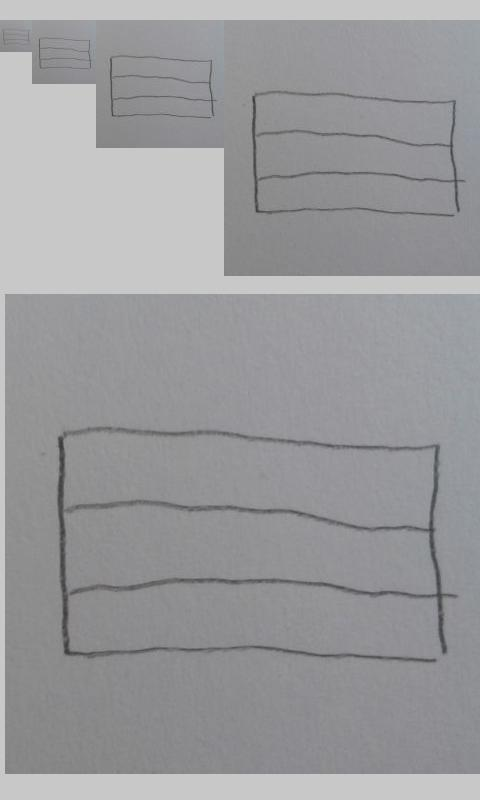list_view: (54, 422, 451, 669), (248, 86, 462, 220), (109, 54, 215, 119), (38, 36, 92, 71), (2, 28, 30, 46)
